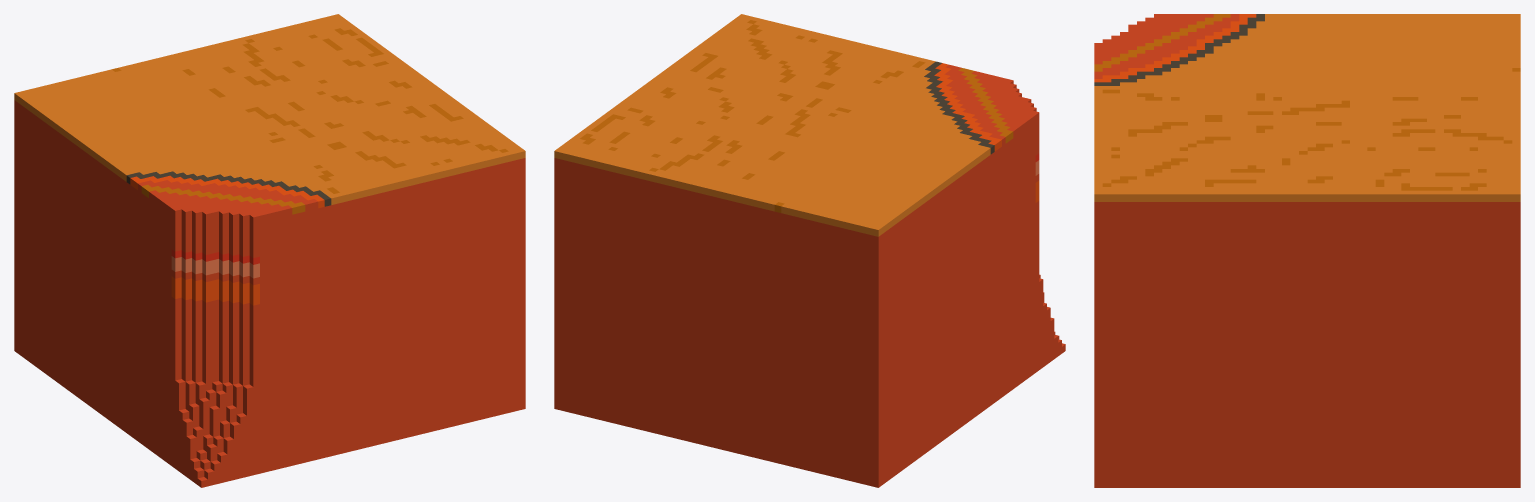
Rendered from western9.obj.
3 views of the same model, side by side, from view 1: azimuth 30°, elevation 25°; view 2: azimuth 150°, elevation 25°; view 3: azimuth 270°, elevation 25° (orthographic). The views are drawn at different scales.
Bounding box in the file's own units: 5 × 3.8 × 5.
1 material, 1 textured.
